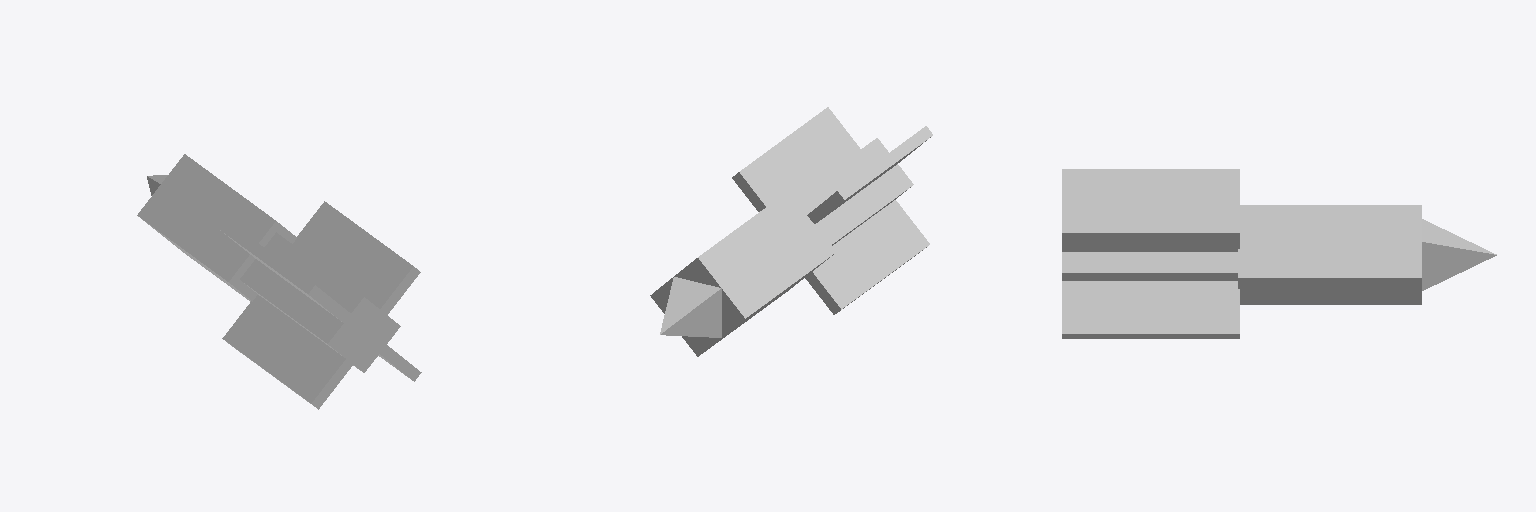
File: rocket.obj
The picture shows the model from 3 angles: view 1: azimuth 30°, elevation 25°; view 2: azimuth 150°, elevation 25°; view 3: azimuth 270°, elevation 25°; orthographic projection.
Visible parts, largest first — view 1: Cube.001, Cube.002, Cube.003, Cube.004, Cube.005, Cube; view 2: Cube.001, Cube.003, Cube.004, Cube.002, Cube.005; view 3: Cube.001, Cube, Cube.005, Cube.002, Cube.004.
Part boxes in pixels (left/top/right/bottom): Cube.001: left=137, top=154, right=296, bottom=301; Cube.002: left=240, top=232, right=400, bottom=372; Cube.003: left=222, top=295, right=352, bottom=409; Cube.004: left=293, top=201, right=420, bottom=318; Cube.005: left=219, top=220, right=351, bottom=323; Cube: left=378, top=344, right=421, bottom=381; Cube.001: left=650, top=191, right=836, bottom=356; Cube.003: left=805, top=200, right=929, bottom=314; Cube.004: left=732, top=107, right=860, bottom=211; Cube.002: left=795, top=138, right=913, bottom=245; Cube.005: left=807, top=126, right=932, bottom=223; Cube.001: left=1238, top=205, right=1496, bottom=304; Cube: left=1062, top=281, right=1239, bottom=338; Cube.005: left=1062, top=169, right=1239, bottom=216; Cube.002: left=1062, top=217, right=1237, bottom=280; Cube.004: left=1062, top=222, right=1239, bottom=251.
Bounding box in the file's own units: 1.78 × 1.87 × 5.9.